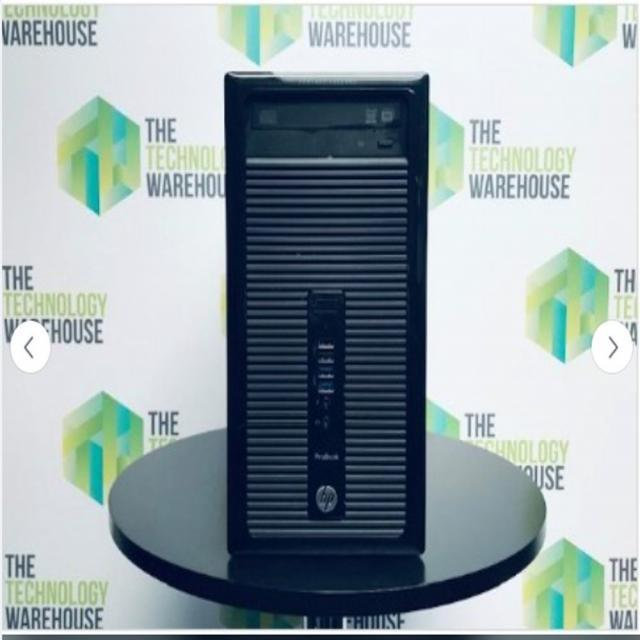Desktop-PC: (213, 62, 441, 590)
